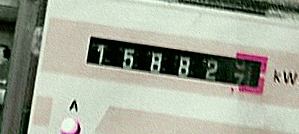1: (94, 39, 110, 63)
2: (203, 55, 222, 81)
5: (121, 43, 138, 69)
7: (233, 66, 247, 85)
8: (176, 52, 193, 78), (149, 48, 165, 73)
screen: (76, 24, 279, 103)
